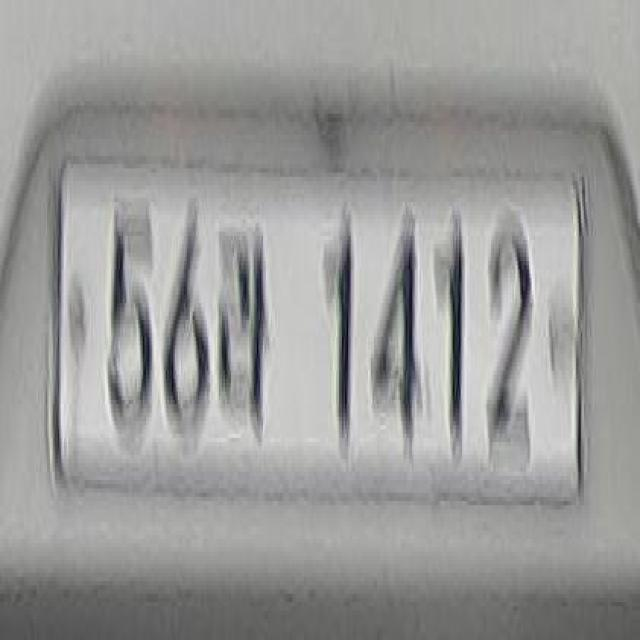illegal_plate: (50, 139, 596, 529)
